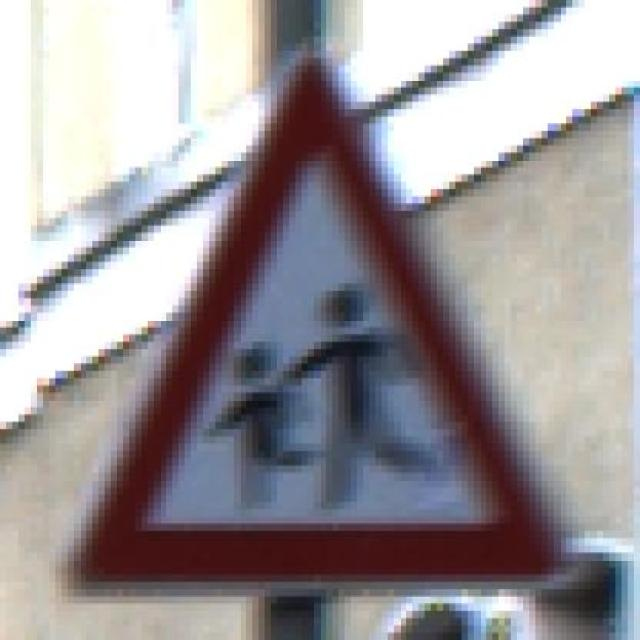Beware of children: (67, 36, 578, 612)
